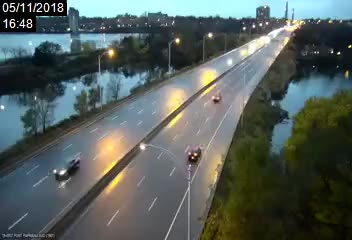personal_car: (53, 157, 80, 180), (186, 147, 201, 162), (211, 93, 222, 104)
